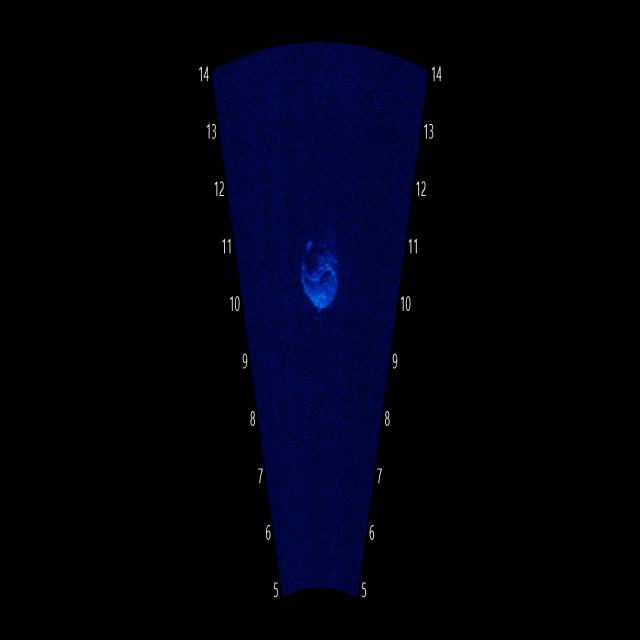circle: (296, 212, 349, 324)
